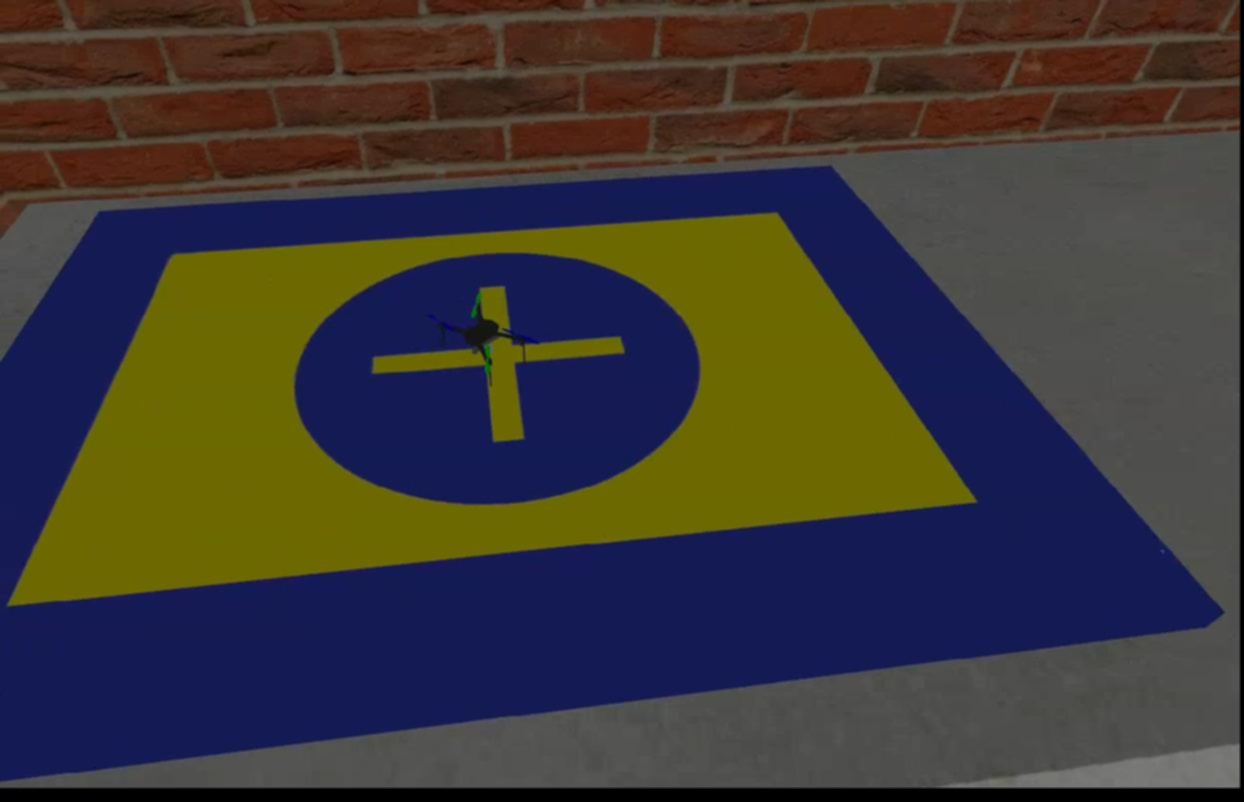large_base: (0, 166, 1222, 787)
